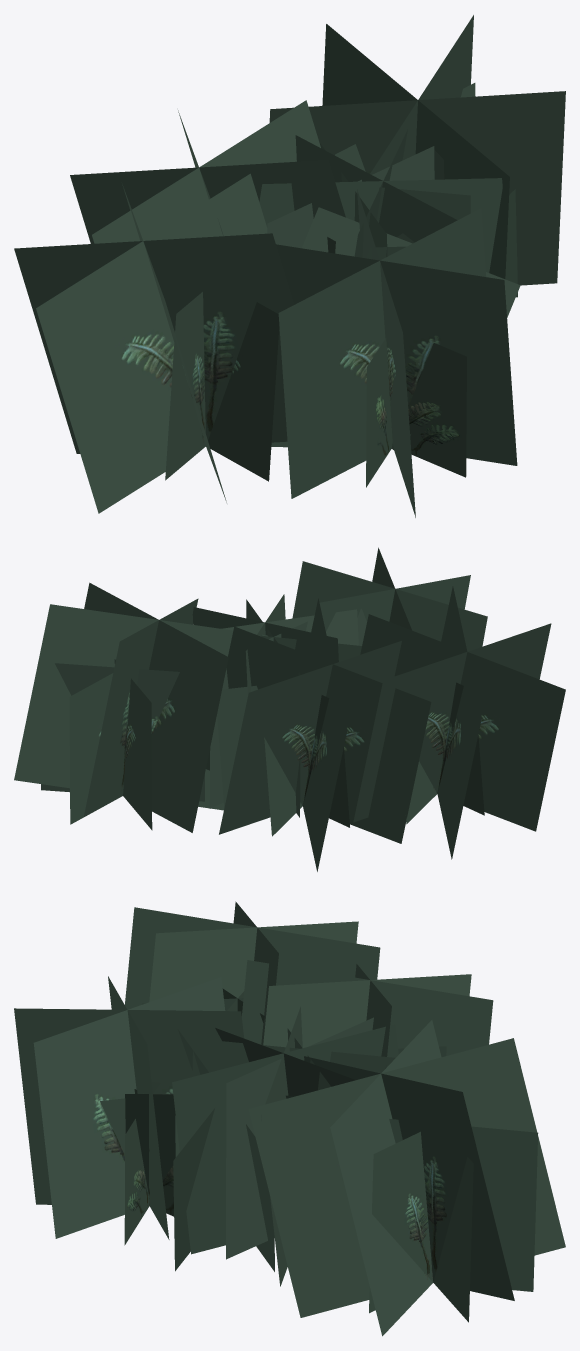
File: dro_junglebrush.glb
3 renders of one model, top to bottom at view 1: azimuth 30°, elevation 25°; view 2: azimuth 150°, elevation 25°; view 3: azimuth 270°, elevation 25°, orthographic. The views are drawn at different scales.
Visible parts, largest first — view 1: dro_junglebrush; view 2: dro_junglebrush; view 3: dro_junglebrush.
Part boxes in pixels (x1,y1,x2,y2): dro_junglebrush: [14, 15, 565, 517]; dro_junglebrush: [14, 547, 565, 871]; dro_junglebrush: [14, 901, 565, 1336].
Size of the model in its own units: 1.18 by 0.5325 by 1.02.
1 material, 1 textured.
